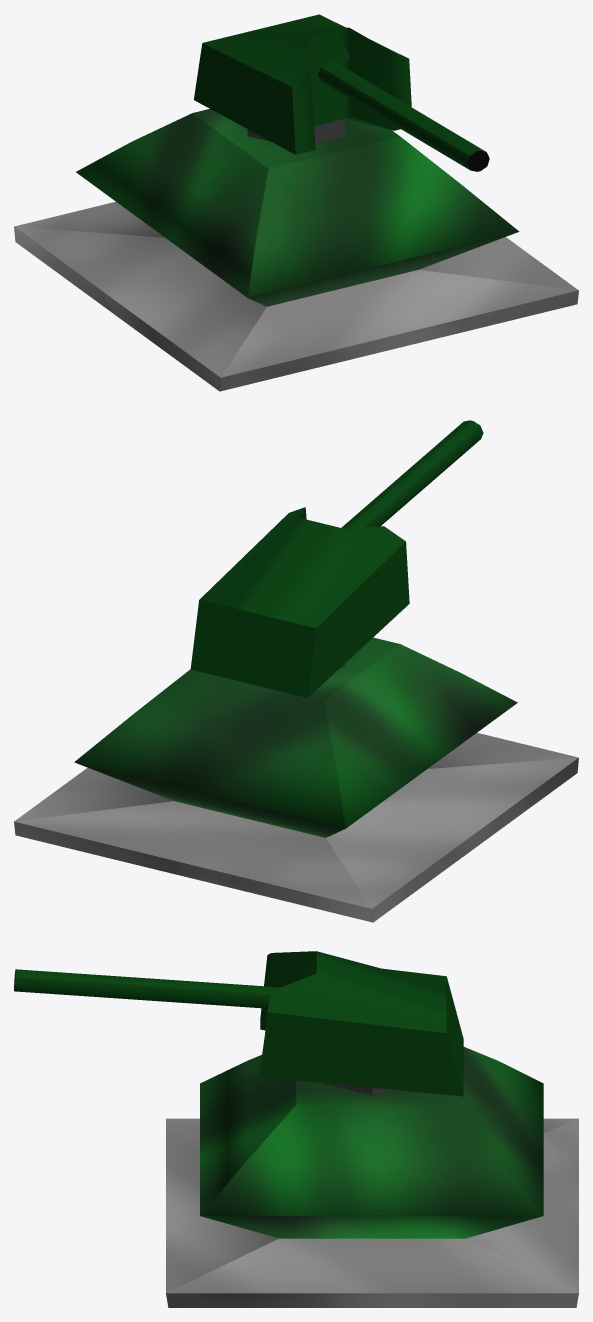
File: Turret.fbx
The picture shows the model from 3 angles, top to bottom: view 1: azimuth 30°, elevation 25°; view 2: azimuth 150°, elevation 25°; view 3: azimuth 270°, elevation 25°; orthographic projection.
Parts seen in each view (by area): view 1: pCube3; view 2: pCube3; view 3: pCube3.
Boxes of the visible parts, x1,y1,x2,y2 form: pCube3: [14, 14, 578, 391]; pCube3: [14, 420, 578, 922]; pCube3: [14, 951, 578, 1307].
Size of the model in its own units: 7.36 by 5.1 by 10.07.
Materials: 1 (1 with a texture image).
